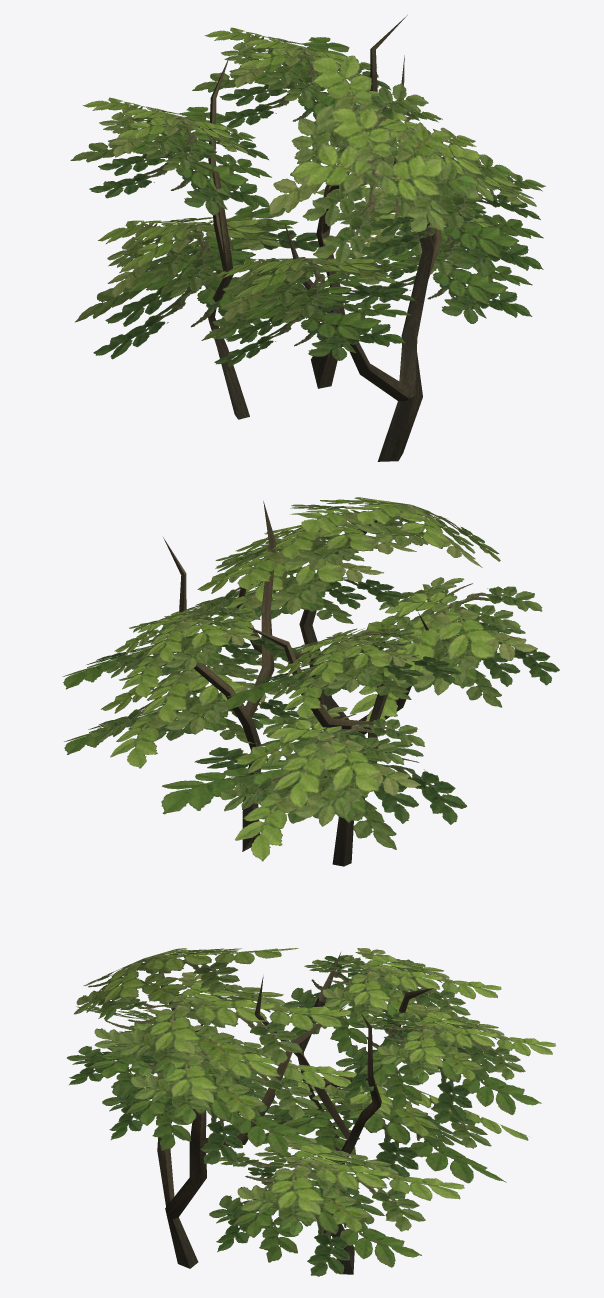
File: xl_shu_5.FBX
3 views of the same model, one above another, from view 1: azimuth 30°, elevation 25°; view 2: azimuth 150°, elevation 25°; view 3: azimuth 270°, elevation 25° (orthographic). The views are drawn at different scales.
Parts seen in each view (by area): view 1: xl_shu_5; view 2: xl_shu_5; view 3: xl_shu_5.
Boxes of the visible parts, bbox=[...] form: xl_shu_5: bbox=[70, 15, 545, 461]; xl_shu_5: bbox=[62, 497, 559, 866]; xl_shu_5: bbox=[67, 948, 555, 1276].
Size of the model in its own units: 1923 by 1367 by 2196.
